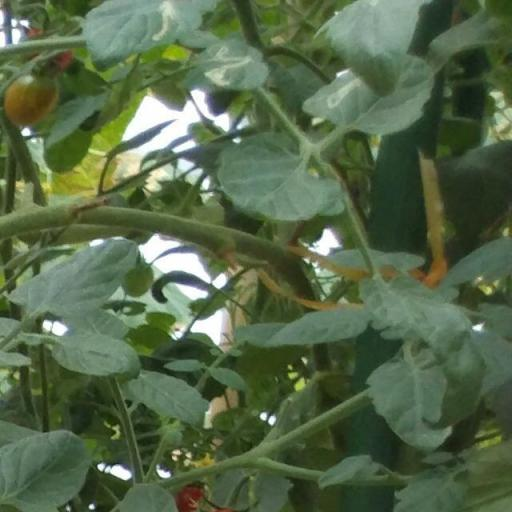Healthy: (214, 123, 340, 225), (6, 234, 140, 324), (0, 424, 104, 512), (362, 357, 456, 454), (261, 305, 370, 352), (50, 326, 142, 380)
Leaf_Miner: (302, 54, 436, 136), (84, 0, 215, 72), (174, 38, 268, 90)
